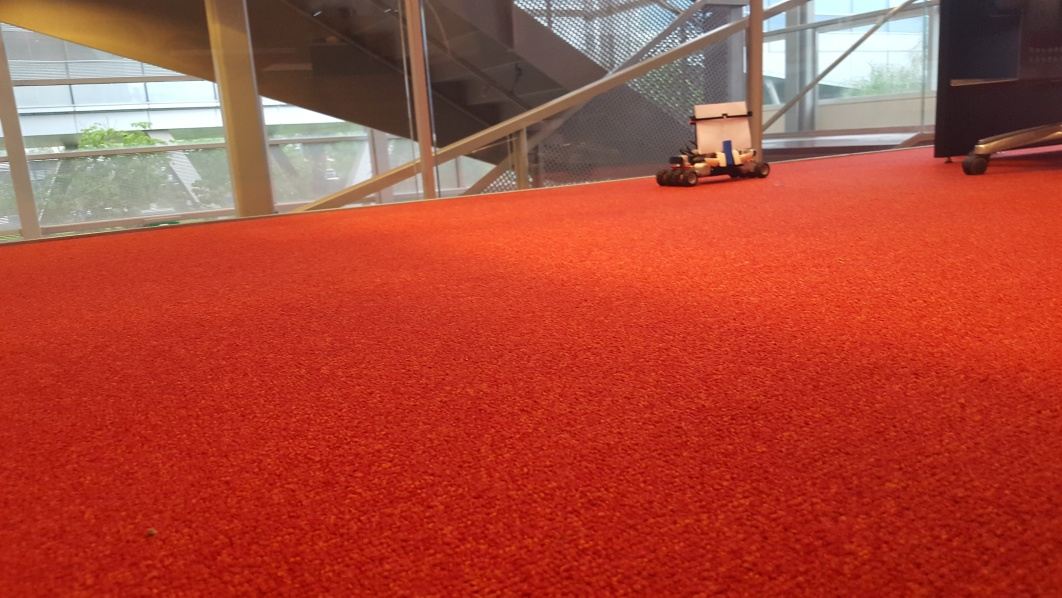car: (656, 100, 772, 184)
